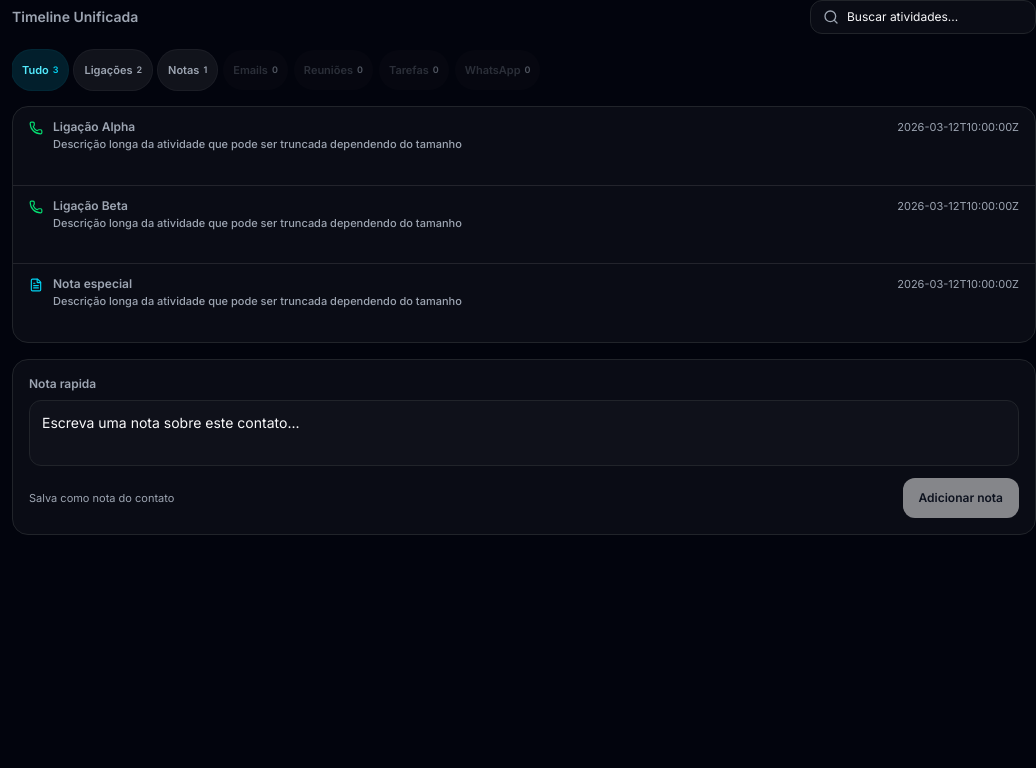
Scenario: ContactCockpitTimeline — Filter Chips (AC5) › filters by type when chip is clicked
Expected: the text "Ligação Alpha" is shown, [53, 119, 135, 135]
Expected: the text "Ligação Beta" is shown, [53, 198, 128, 214]
// Filter by NOTE
Step 1. Click the button with aria-label "Filtrar por Notas" → (188,70), box [158, 50, 217, 90]
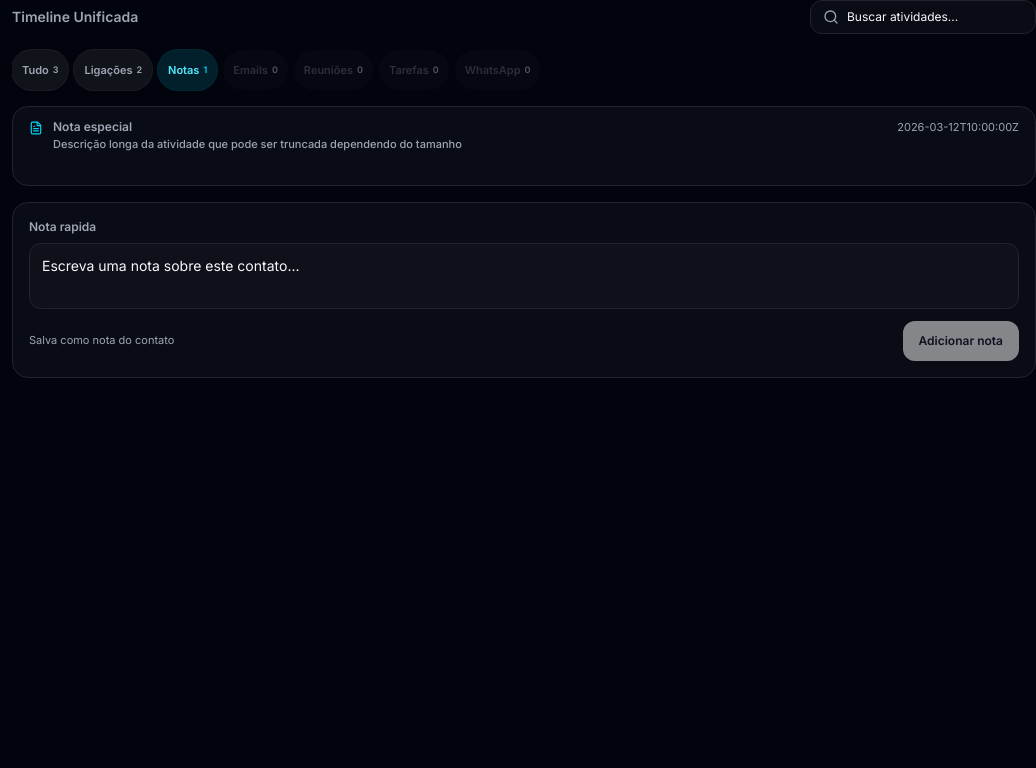
Expected: the text "Nota especial" is shown, [53, 119, 132, 135]
Now the text "Ligação Alpha" is gone
Now the text "Ligação Beta" is gone
